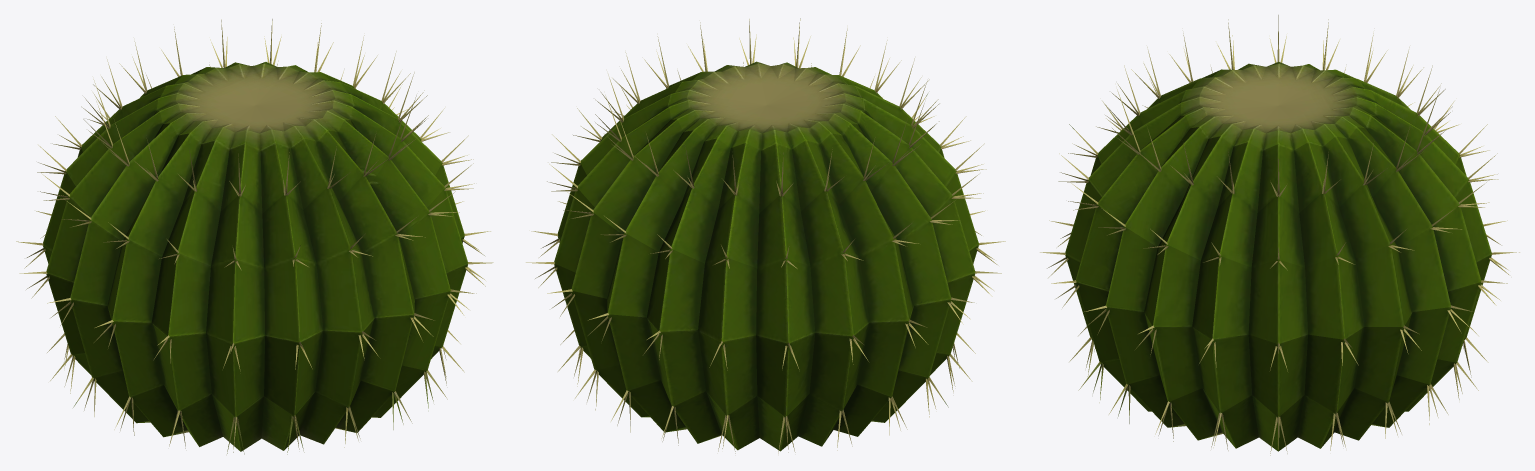
Rendered from Barrel cactus-transformed.glb.
3 views of the same model, side by side, from view 1: azimuth 30°, elevation 25°; view 2: azimuth 150°, elevation 25°; view 3: azimuth 270°, elevation 25° (orthographic).
Parts seen in each view (by area): view 1: BarrelCactus_mesh; view 2: BarrelCactus_mesh; view 3: BarrelCactus_mesh.
Boxes of the visible parts, left/top/right/bottom form: BarrelCactus_mesh: left=16, top=19, right=493, bottom=454; BarrelCactus_mesh: left=526, top=18, right=1005, bottom=453; BarrelCactus_mesh: left=1040, top=15, right=1519, bottom=455.
Size of the model in its own units: 6.92 by 5.02 by 6.92.
Materials: 1 (1 with a texture image).
